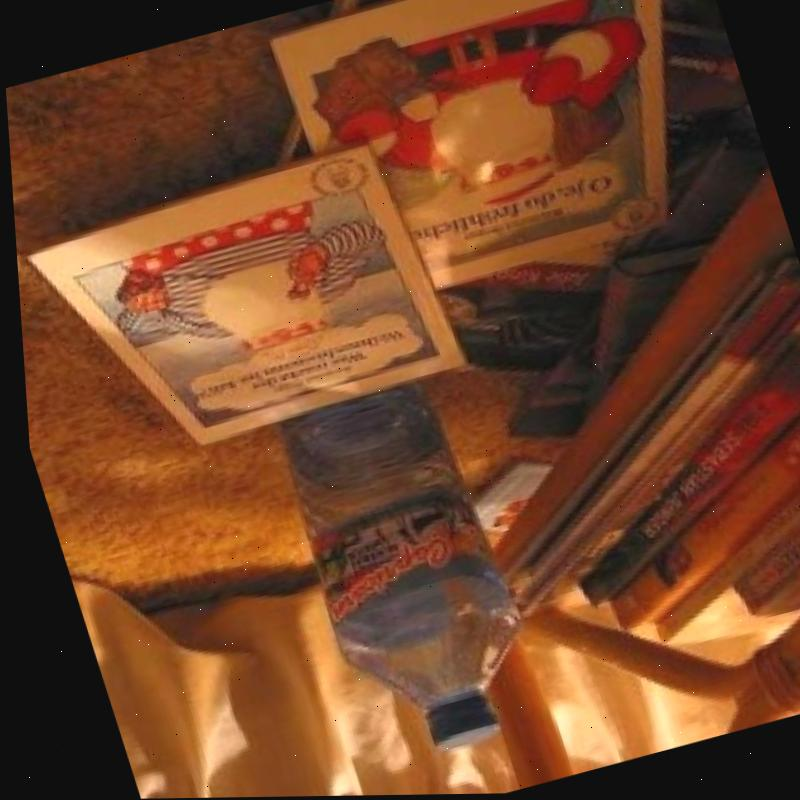botella: (257, 371, 541, 767)
